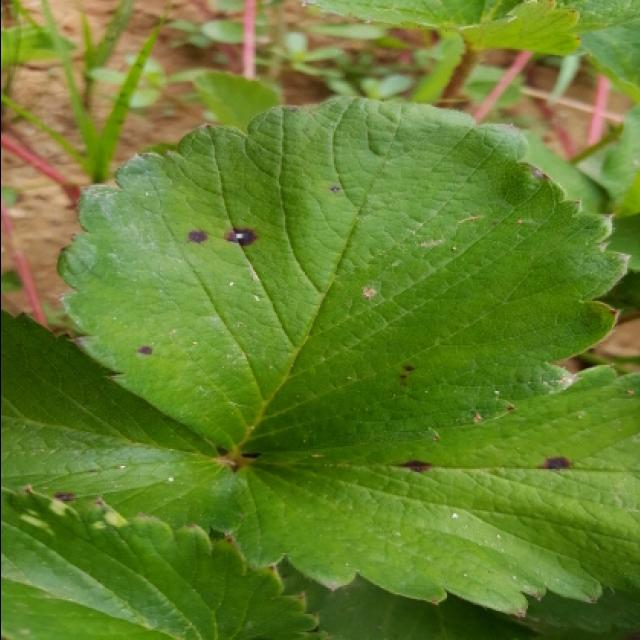Leaf Spot: (54, 95, 632, 455), (230, 363, 640, 621), (2, 307, 254, 533)
